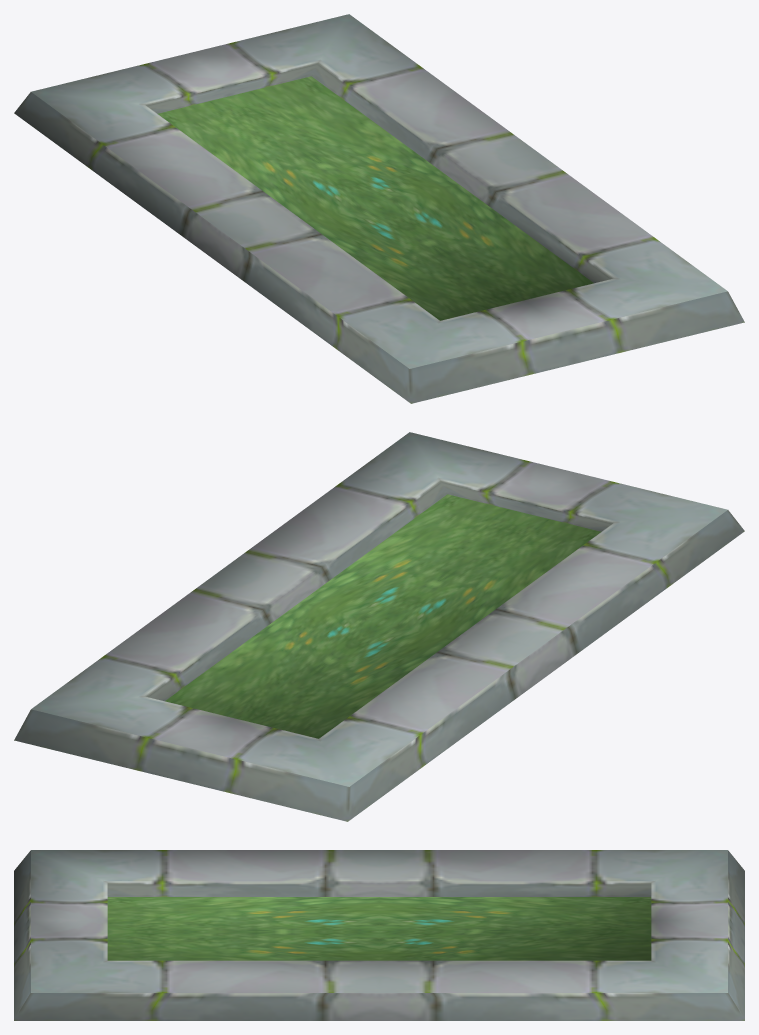
Rendered from Map_06_flowerpot02.FBX.
3 renders of one model, top to bottom at view 1: azimuth 30°, elevation 25°; view 2: azimuth 150°, elevation 25°; view 3: azimuth 270°, elevation 25°, orthographic. The views are drawn at different scales.
Visible parts, largest first — view 1: Map_06_flowerpot02; view 2: Map_06_flowerpot02; view 3: Map_06_flowerpot02.
Boxes of the visible parts, x1,y1,x2,y2 form: Map_06_flowerpot02: (14,14,744,403); Map_06_flowerpot02: (14,432,744,821); Map_06_flowerpot02: (14,850,744,1020).
Size of the model in its own units: 294 by 606 by 22.14.
